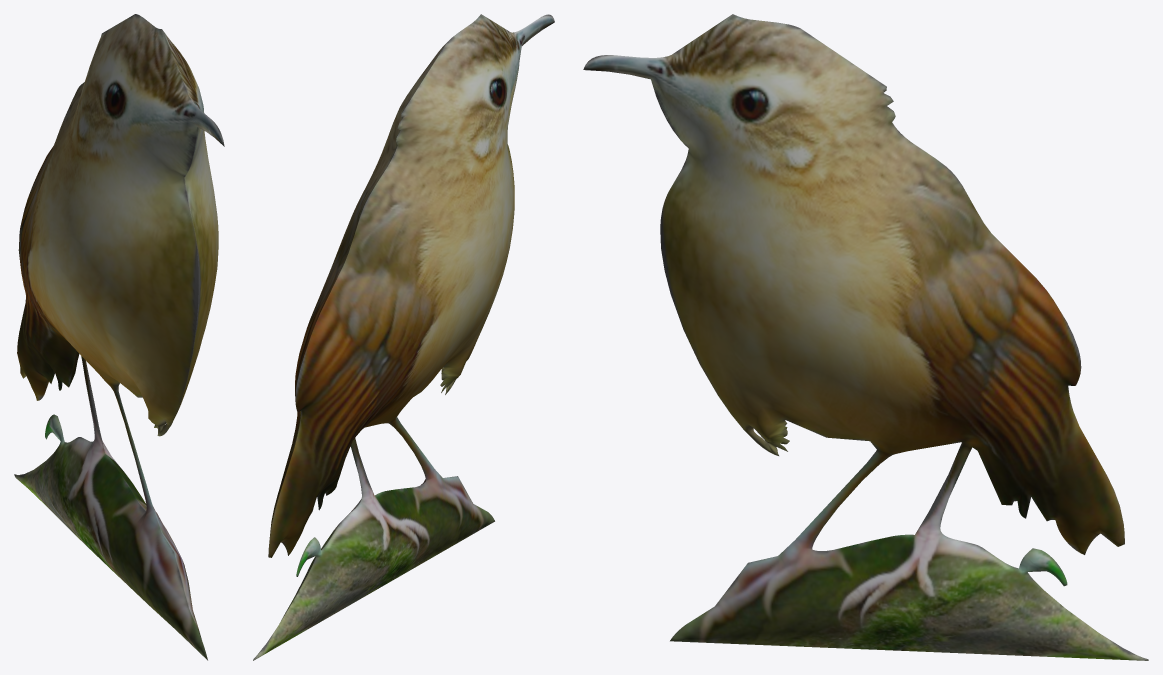
The picture shows the model from 3 angles, left to right: view 1: azimuth 30°, elevation 25°; view 2: azimuth 150°, elevation 25°; view 3: azimuth 270°, elevation 25°; orthographic projection. The views are drawn at different scales.
Parts seen in each view (by area): view 1: node1; view 2: node1; view 3: node1.
Boxes of the visible parts, <box> form: node1: <box>14,14,224,660</box>; node1: <box>253,14,554,660</box>; node1: <box>583,14,1148,660</box>.
Bounding box in the file's own units: 0.3514 × 1.44 × 1.19.
Materials: 1 (1 with a texture image).
